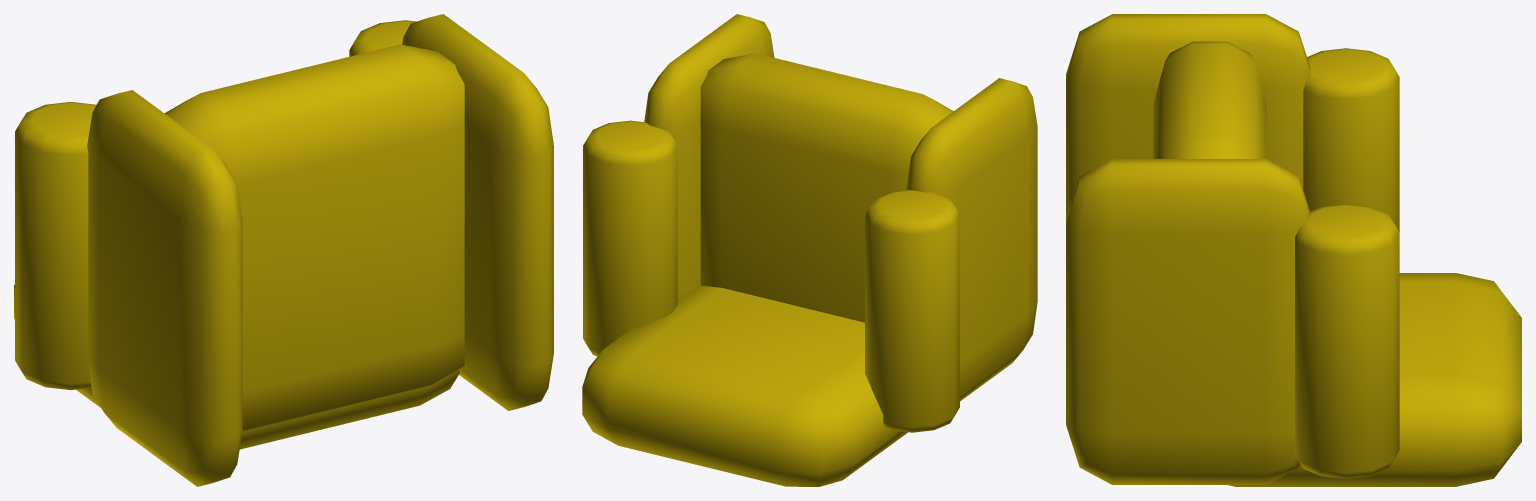
File: Obs_Armchair.fbx
3 views of the same model, side by side, from view 1: azimuth 30°, elevation 25°; view 2: azimuth 150°, elevation 25°; view 3: azimuth 270°, elevation 25° (orthographic). The views are drawn at different scales.
Parts seen in each view (by area): view 1: Obs_Armchair; view 2: Obs_Armchair; view 3: Obs_Armchair.
Part boxes in pixels (x1,y1,x2,y2): Obs_Armchair: [14, 14, 553, 486]; Obs_Armchair: [582, 14, 1037, 486]; Obs_Armchair: [1066, 14, 1521, 486].
Bounding box in the file's own units: 0.6947 × 0.5497 × 0.6656.
